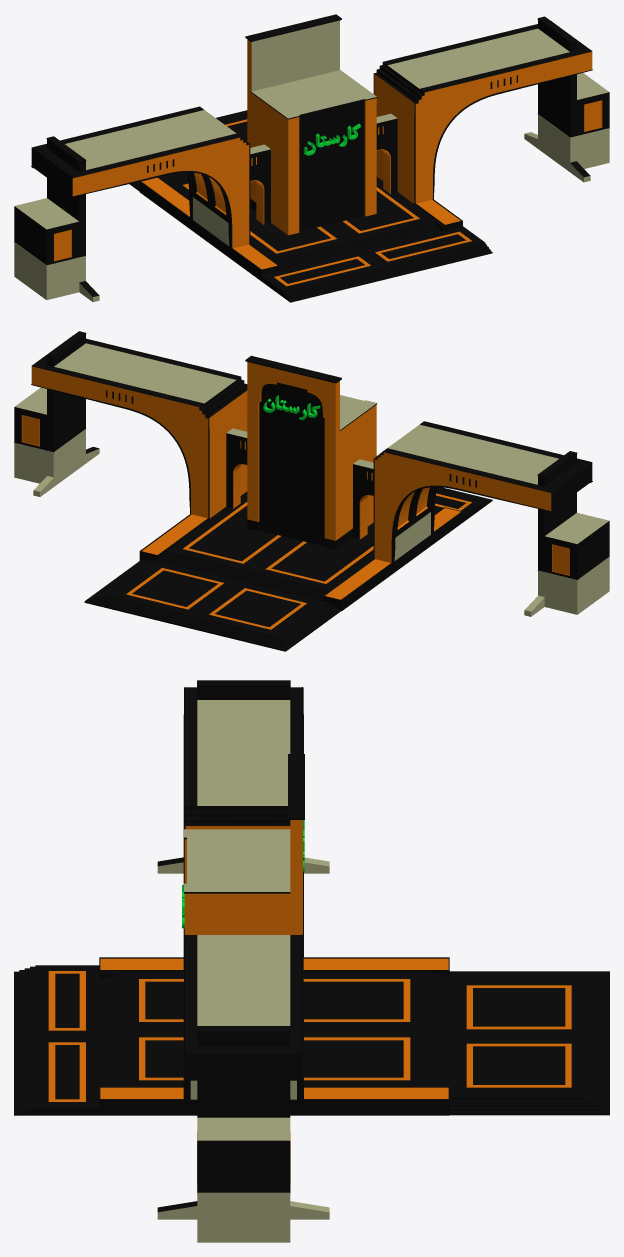
File: Sardar_Karestan_hamaria.fbx
3 views of the same model, one above another, from view 1: azimuth 30°, elevation 25°; view 2: azimuth 150°, elevation 25°; view 3: azimuth 270°, elevation 25° (orthographic). The views are drawn at different scales.
Parts seen in each view (by area): view 1: Karestan Gate LOD 0; view 2: Karestan Gate LOD 0; view 3: Karestan Gate LOD 0.
Part boxes in pixels (<box>): Karestan Gate LOD 0: <box>14,14,609,302</box>; Karestan Gate LOD 0: <box>14,331,609,651</box>; Karestan Gate LOD 0: <box>14,680,609,1242</box>.
Size of what is drawn, in the model's own units: 1725 by 523 by 1094.
